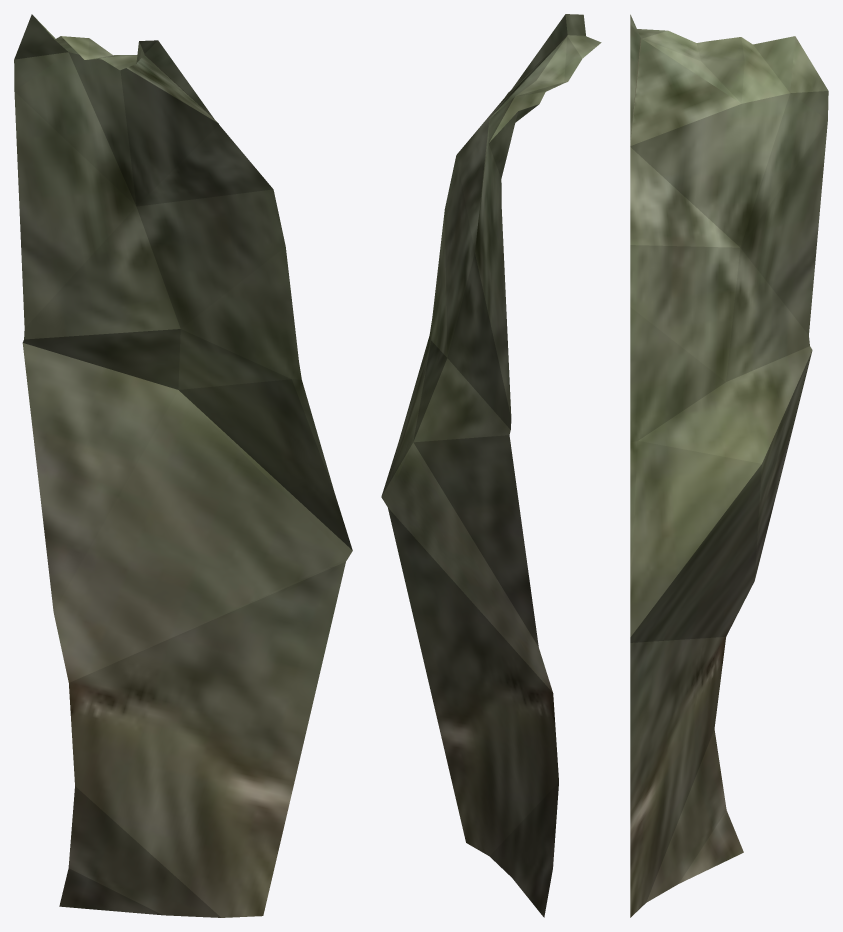
3 views of the same model, side by side, from view 1: azimuth 30°, elevation 25°; view 2: azimuth 150°, elevation 25°; view 3: azimuth 270°, elevation 25° (orthographic). The views are drawn at different scales.
Bounding box in the file's own units: 0.7549 × 2.8 × 0.5947.
Materials: 1 (1 with a texture image).
